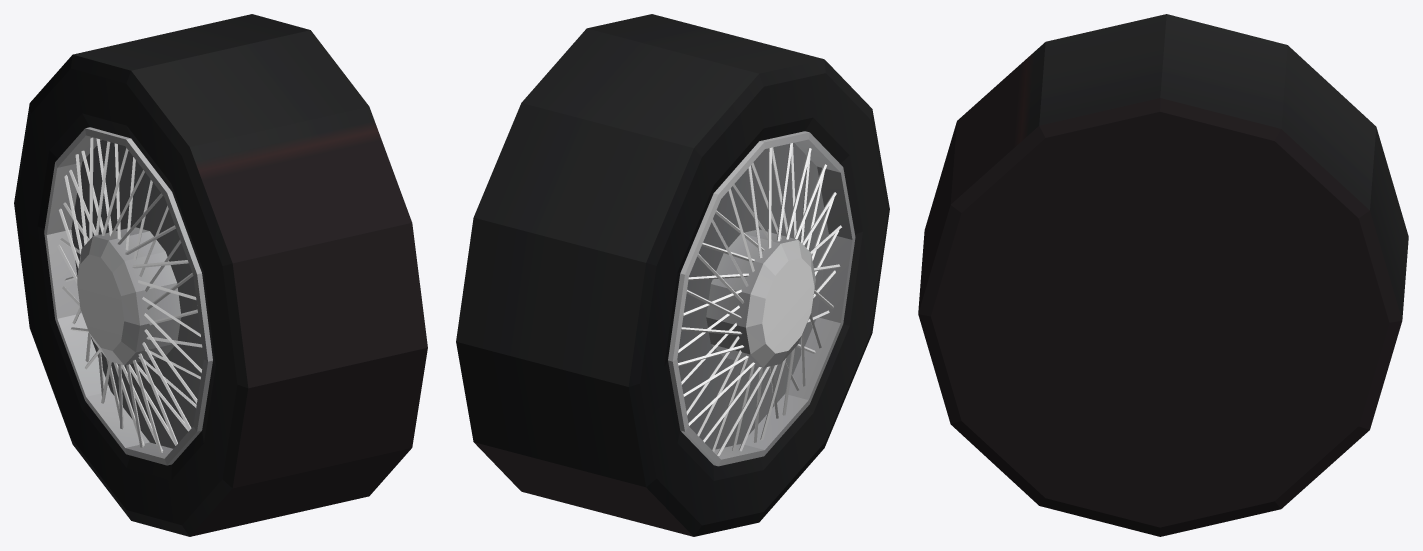
Rendered from llantaInfDer.obj.
The picture shows the model from 3 angles, left to right: view 1: azimuth 30°, elevation 25°; view 2: azimuth 150°, elevation 25°; view 3: azimuth 270°, elevation 25°; orthographic projection. The views are drawn at different scales.
Parts seen in each view (by area): view 1: Right_inferior_wheel_Mesh.004; view 2: Right_inferior_wheel_Mesh.004; view 3: Right_inferior_wheel_Mesh.004.
Part boxes in pixels (bbox=[...]): Right_inferior_wheel_Mesh.004: bbox=[14, 14, 427, 536]; Right_inferior_wheel_Mesh.004: bbox=[456, 14, 889, 536]; Right_inferior_wheel_Mesh.004: bbox=[918, 14, 1408, 536].
Size of the model in its own units: 1.3 by 2.56 by 2.59.
Materials: 1 (1 with a texture image).
